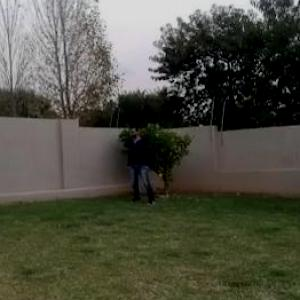follow: (129, 121, 150, 205)
